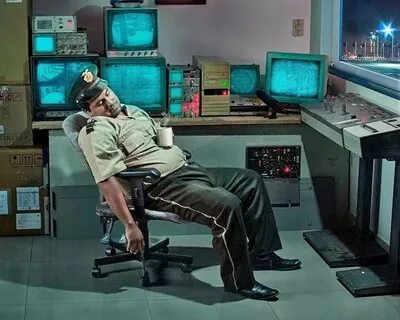sleep: (67, 63, 302, 300)
